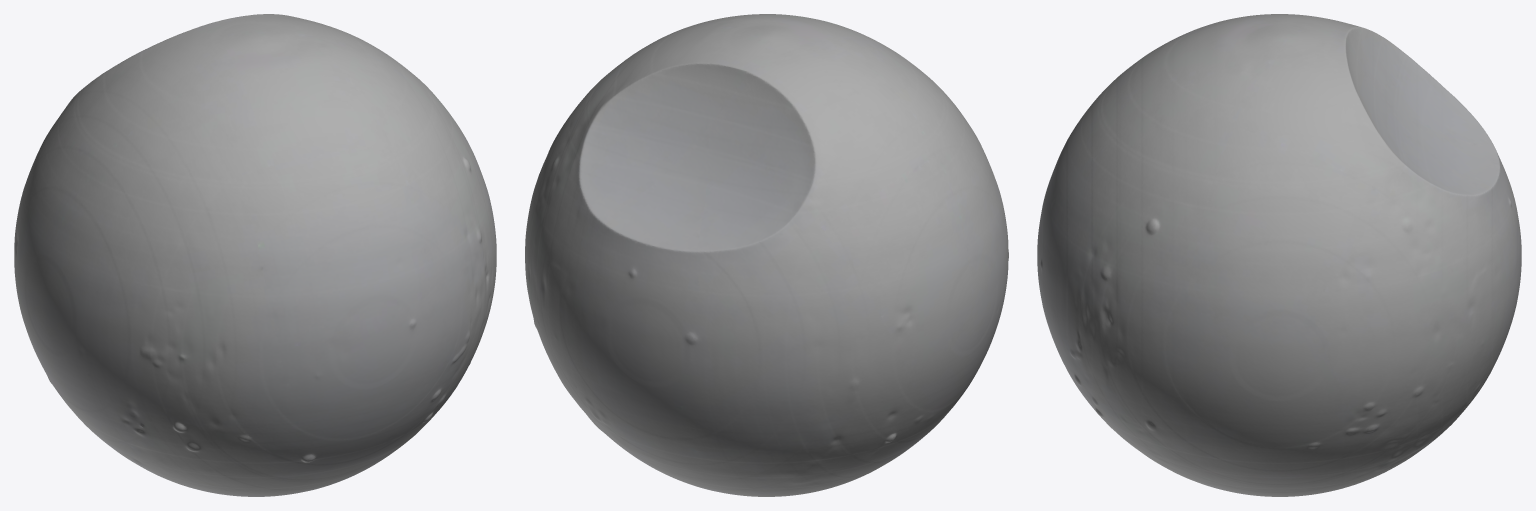
The model's file is detailed_realistic_model_crystalball_09.glb.
The picture shows the model from 3 angles, left to right: view 1: azimuth 30°, elevation 25°; view 2: azimuth 150°, elevation 25°; view 3: azimuth 270°, elevation 25°; orthographic projection.
Parts seen in each view (by area): view 1: tripo_node_7204486c-6ad4-48bc-a5cb-4fc3920907ab; view 2: tripo_node_7204486c-6ad4-48bc-a5cb-4fc3920907ab; view 3: tripo_node_7204486c-6ad4-48bc-a5cb-4fc3920907ab.
Part boxes in pixels (x1=…): tripo_node_7204486c-6ad4-48bc-a5cb-4fc3920907ab: x1=14, y1=14, x2=496, y2=496; tripo_node_7204486c-6ad4-48bc-a5cb-4fc3920907ab: x1=525, y1=14, x2=1008, y2=496; tripo_node_7204486c-6ad4-48bc-a5cb-4fc3920907ab: x1=1037, y1=14, x2=1521, y2=496.
Size of the model in its own units: 1 by 0.9985 by 0.9979.
Materials: 1 (1 with a texture image).
